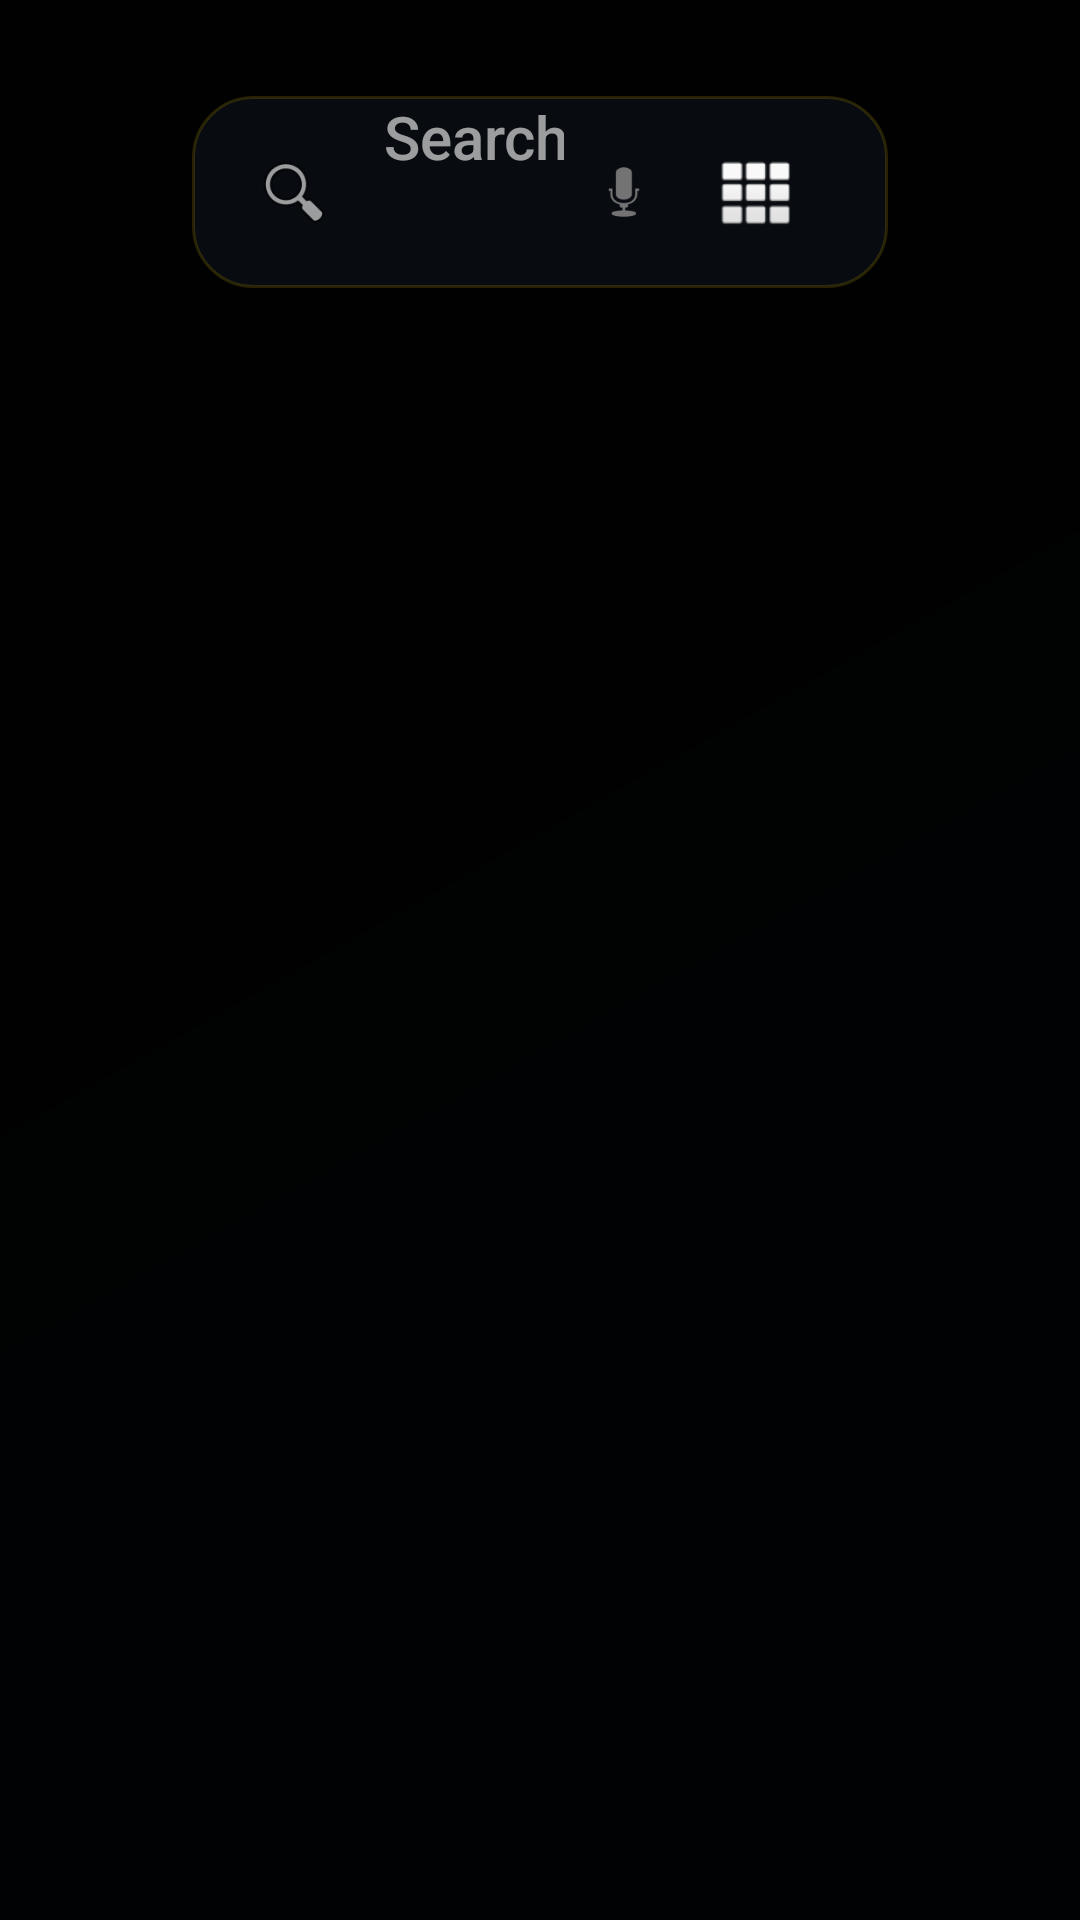

Named icons in this screenshot (1080 × 1920) and their bounding boxes, (x1, y1, x2, y2):
dialer: (721, 162, 790, 224)
speak now: (608, 167, 640, 217)
